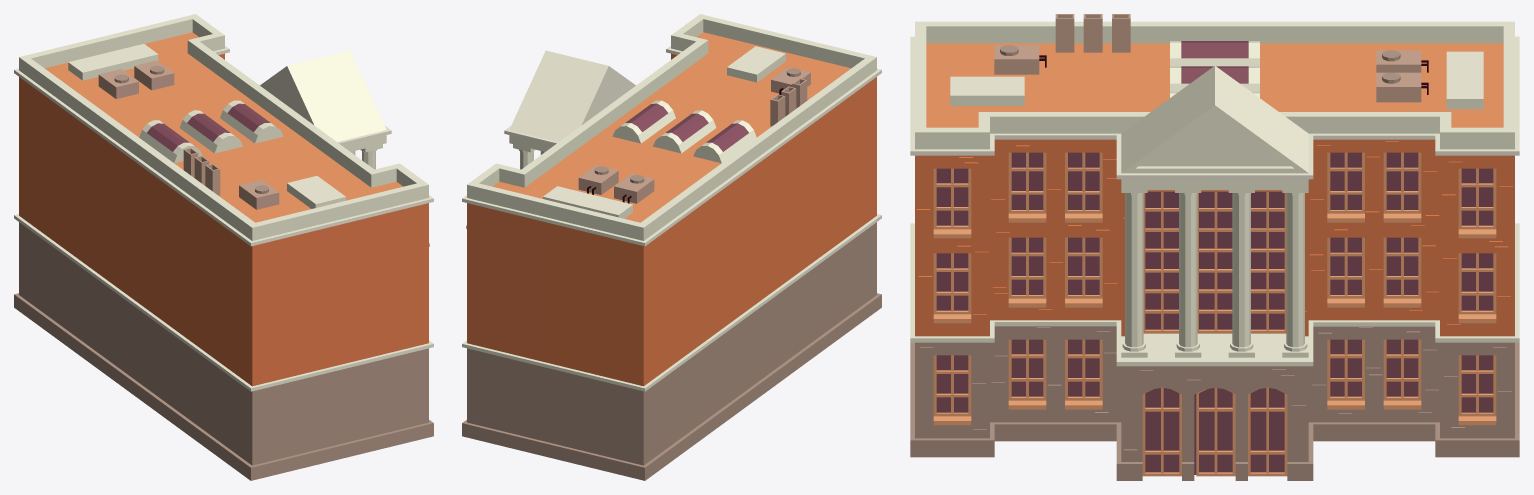
The model's file is wikara.glb.
The picture shows the model from 3 angles, left to right: view 1: azimuth 30°, elevation 25°; view 2: azimuth 150°, elevation 25°; view 3: azimuth 270°, elevation 25°; orthographic projection. The views are drawn at different scales.
Visible parts, largest first — view 1: Object_2; view 2: Object_2; view 3: Object_2.
Boxes of the visible parts, left/top/right/bottom form: Object_2: left=14, top=14, right=433, bottom=480; Object_2: left=462, top=14, right=881, bottom=480; Object_2: left=910, top=14, right=1519, bottom=480.
Bounding box in the file's own units: 17.5 × 22 × 32.5.
1 material, 1 textured.
